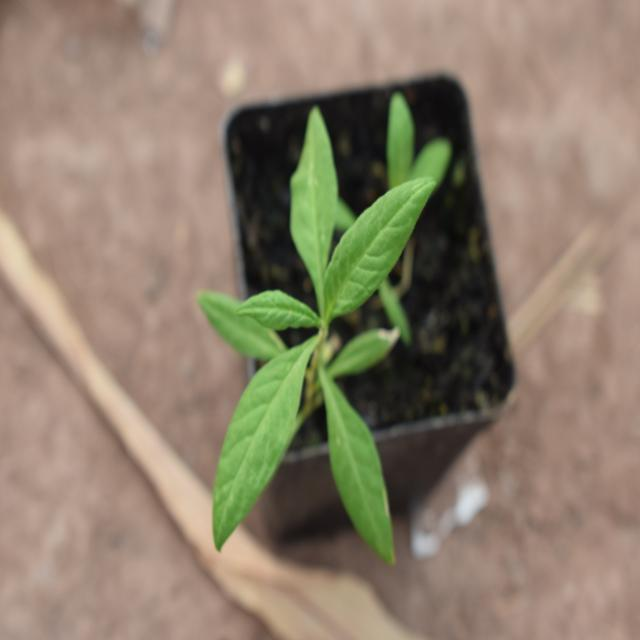white_smart_weed: (194, 92, 434, 569)
